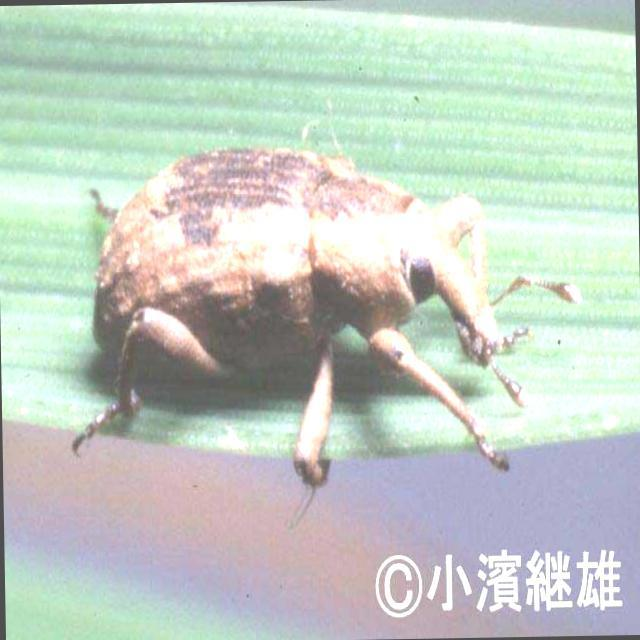ricebug: (78, 149, 522, 484)
